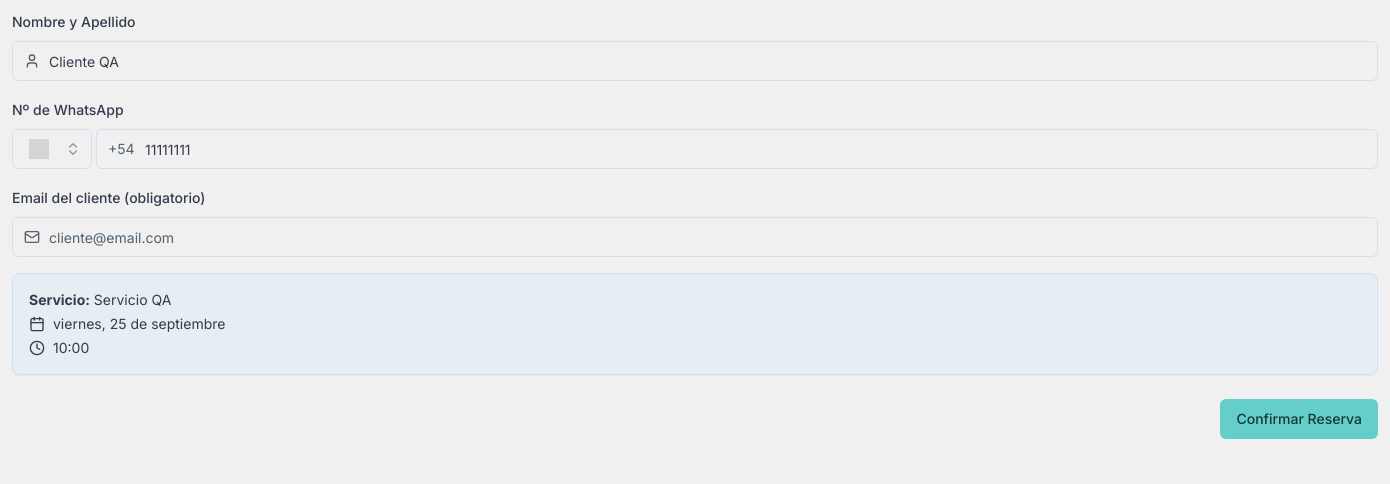
Test case: public booking contact requirements › keeps the form open and explains why email is needed before submitting
Expected: the field showing "Cliente QA" is shown, [12, 41, 1378, 81]
Click the button "Confirmar Reserva".
click(1299, 419)  # box [1220, 399, 1378, 439]
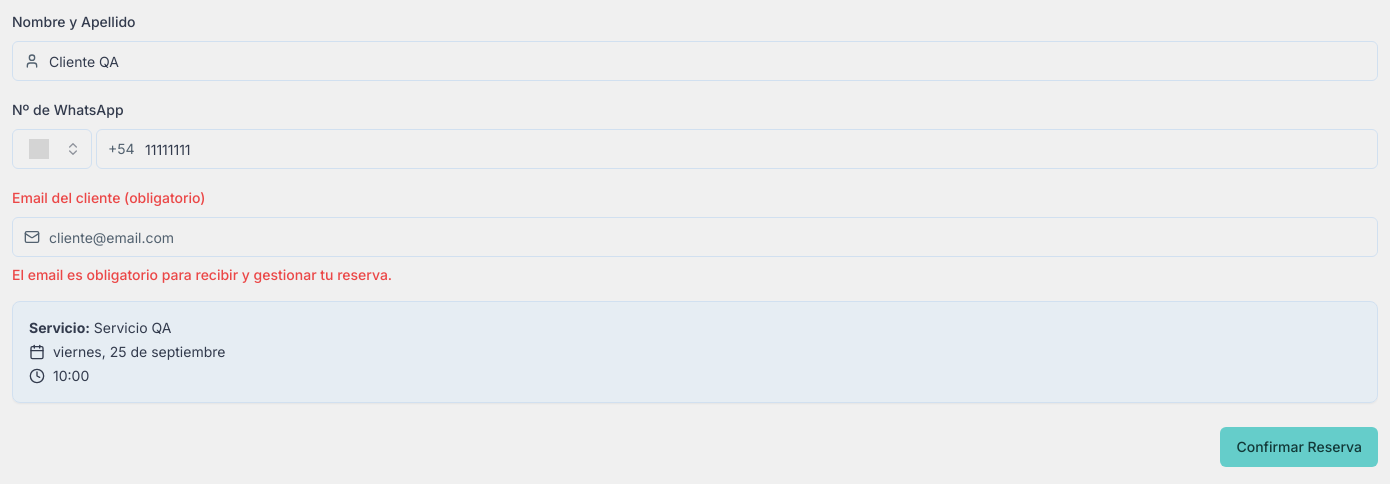
Result: the text "El email es obligatorio para recibir y gestionar tu reserva." is shown at [12, 266, 392, 283]
